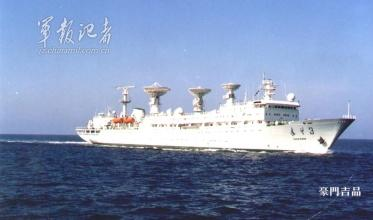warship: (66, 73, 362, 153)
